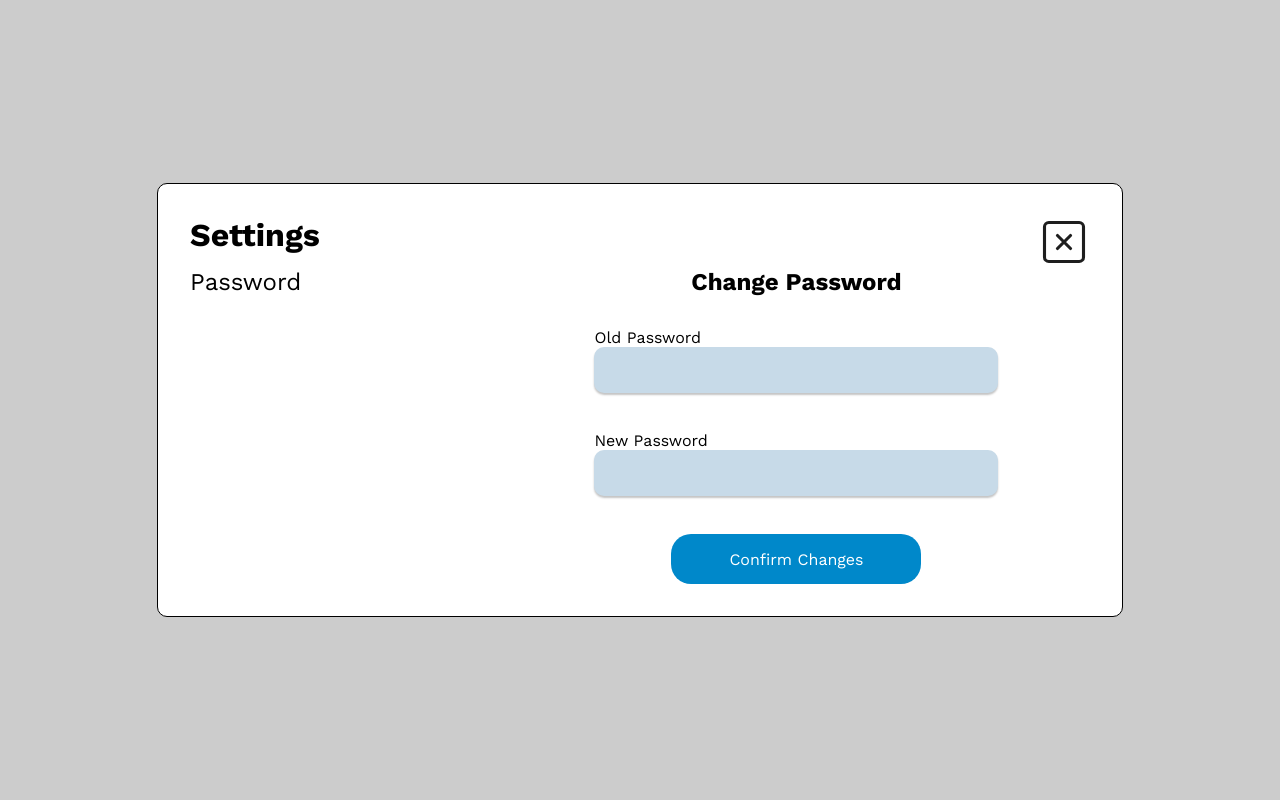
Test: shows message if passwords are the same
In the password field labelled "Old Password": point(796, 370) [594,347,998,393], type "samepass"
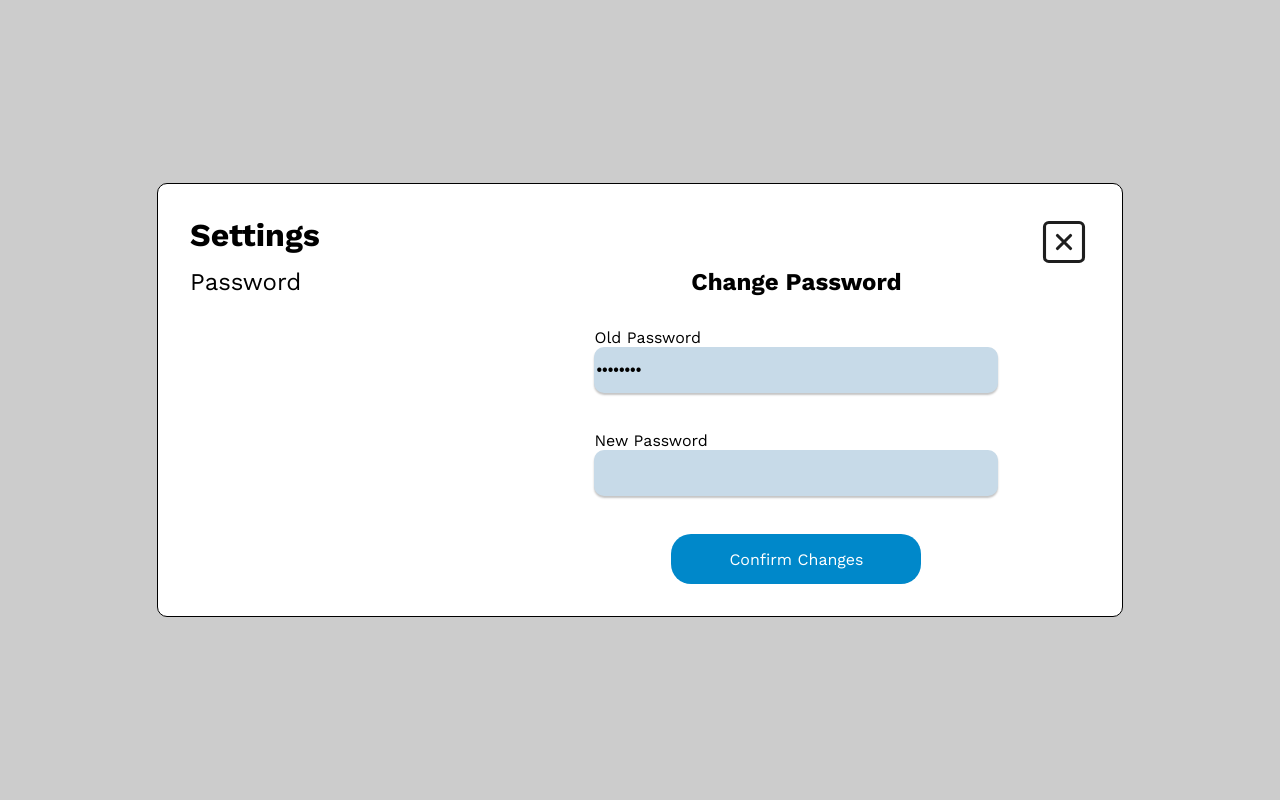
In the password field labelled "New Password": point(796, 473) [594,450,998,496], type "samepass"
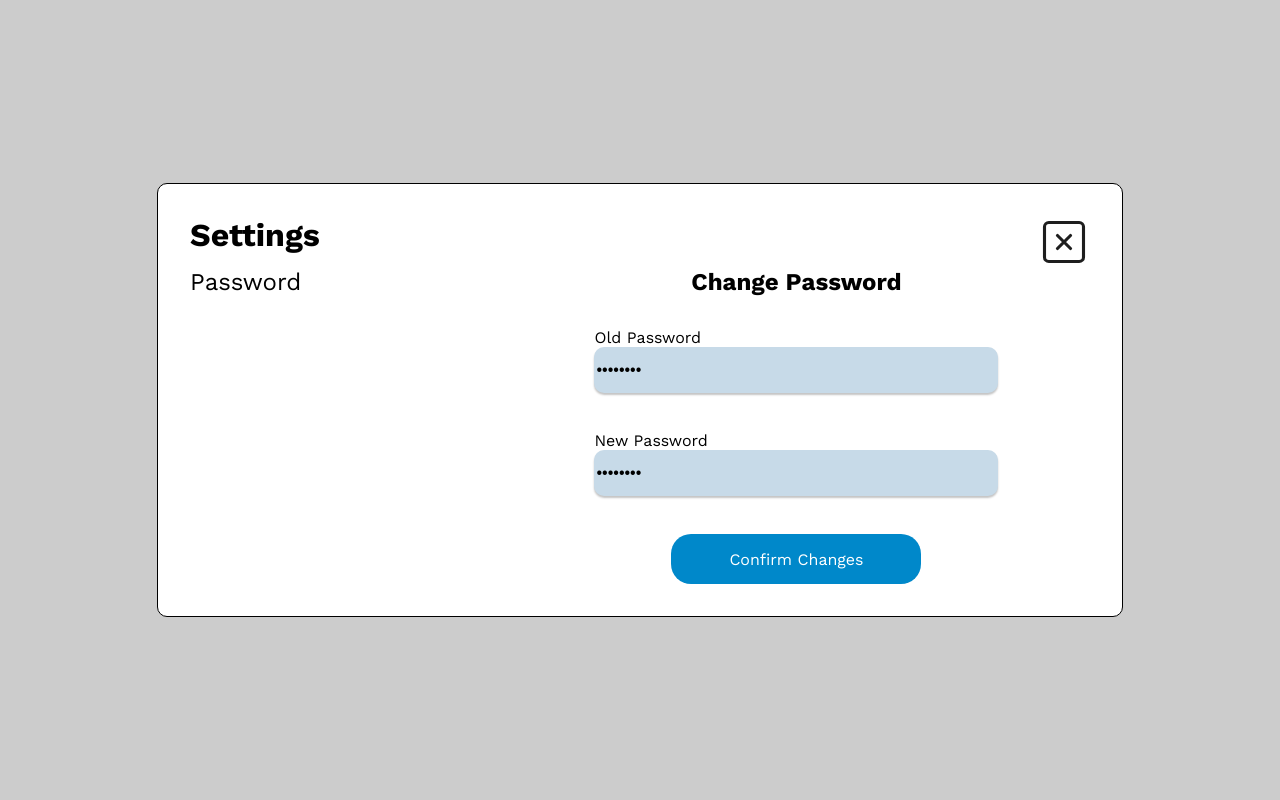
Click the button "Confirm Changes": point(796, 559) [672,534,922,584]
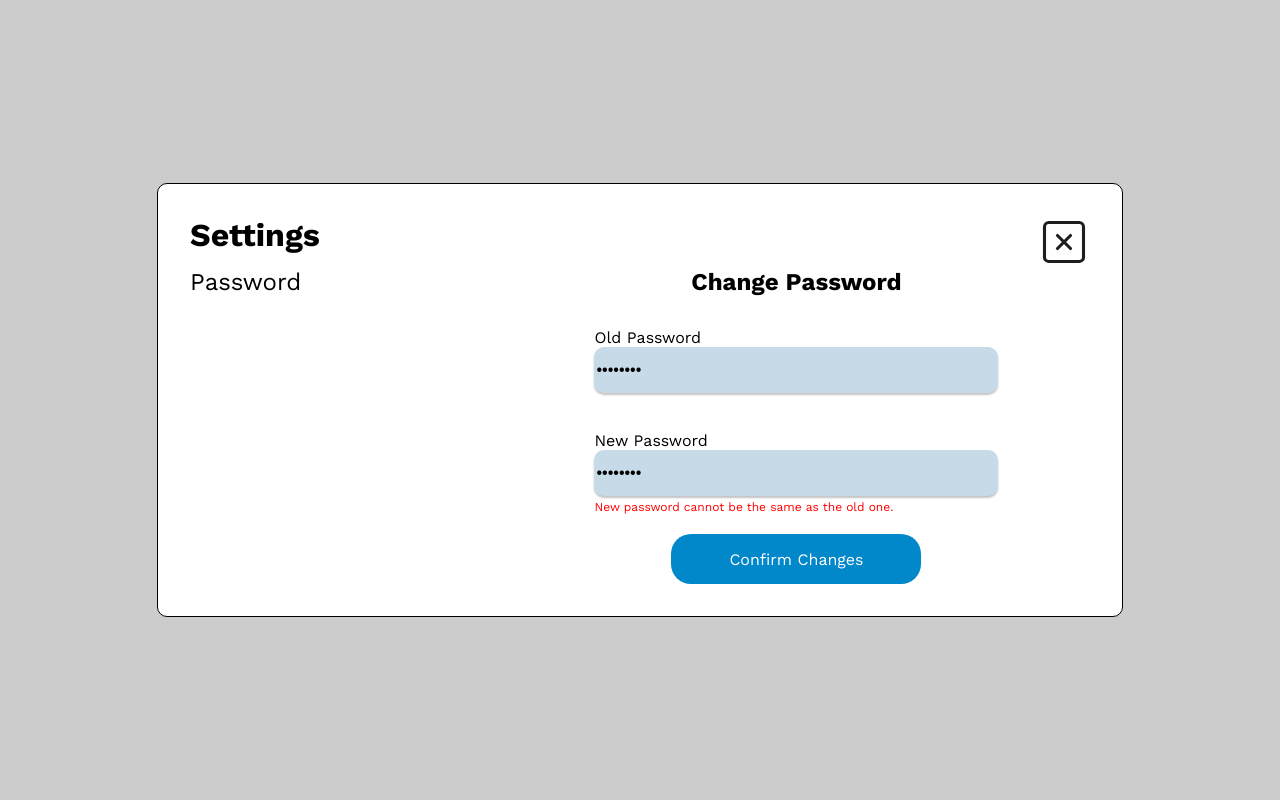
Expected: the text "New password cannot be the same as the old one." is shown, [594,500,893,514]
